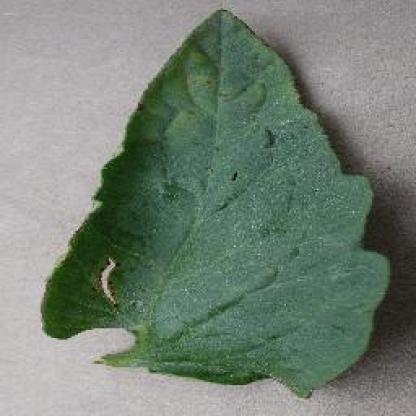bad leaf: (28, 4, 409, 415)
